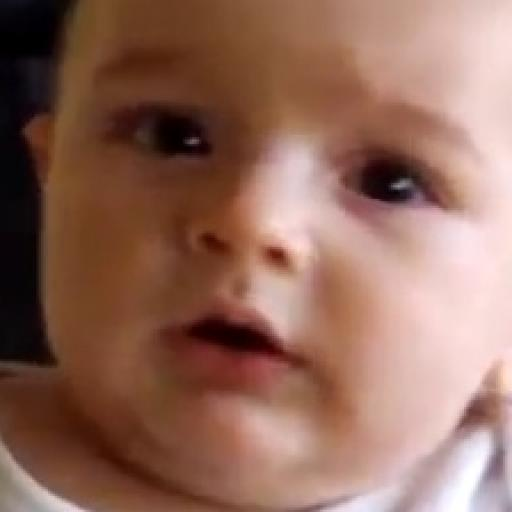Autism: (59, 2, 512, 512)
